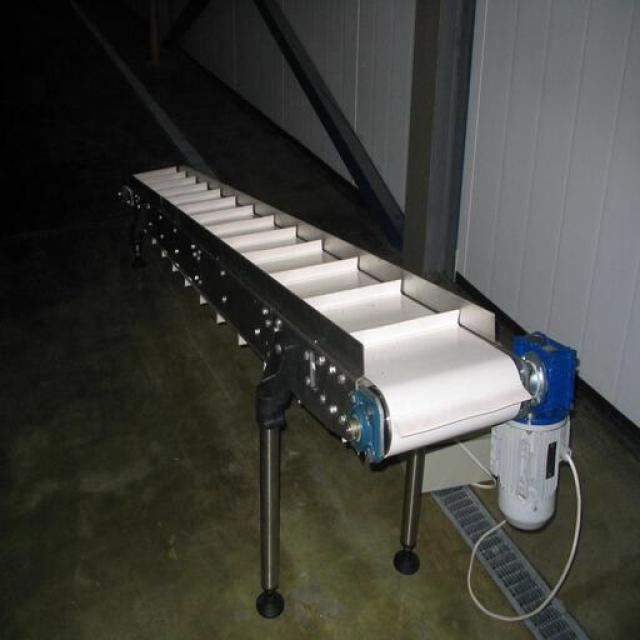conveyor: (113, 126, 612, 540)
